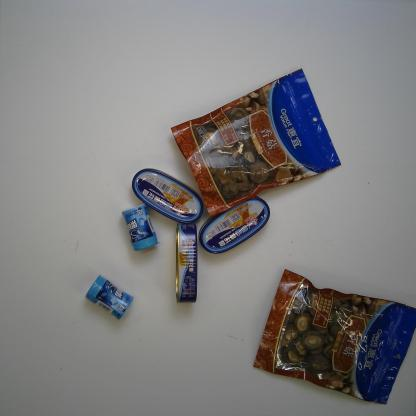Canned Food: (197, 196, 271, 255), (132, 168, 204, 224), (176, 222, 198, 304)
Dried Food: (171, 68, 342, 218), (253, 268, 415, 406)
Gum: (84, 274, 134, 320), (121, 203, 161, 251)
